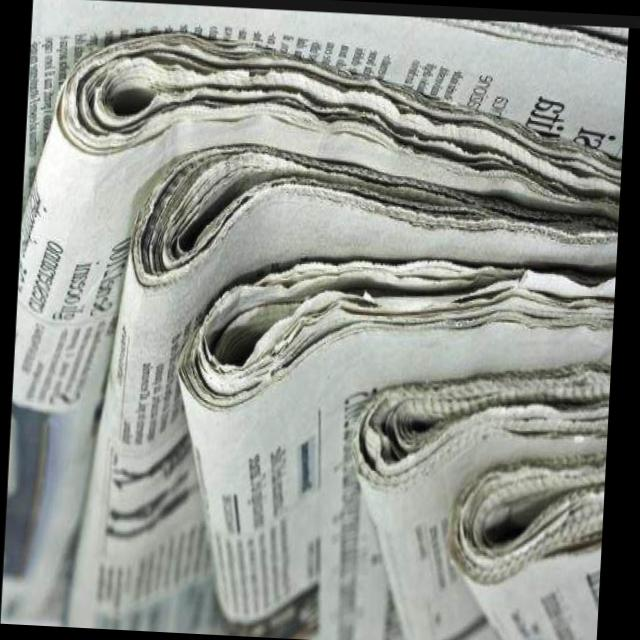Koran: (0, 18, 628, 640)
